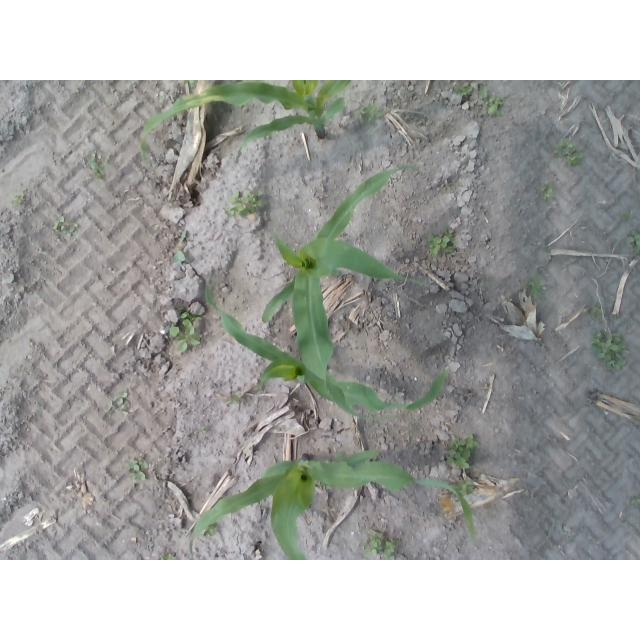Maize: (263, 165, 425, 419), (203, 276, 445, 413), (192, 449, 479, 560), (141, 81, 350, 159)
Weeds: (593, 330, 628, 370), (168, 312, 201, 353), (364, 532, 402, 560), (229, 191, 268, 215), (425, 231, 457, 256), (555, 140, 585, 165), (479, 89, 503, 115), (361, 103, 385, 122), (446, 449, 470, 468), (625, 228, 640, 249), (530, 276, 545, 297), (92, 156, 105, 177), (129, 463, 146, 479), (172, 249, 187, 267), (461, 435, 480, 449), (115, 392, 129, 410), (588, 303, 602, 320), (541, 184, 553, 202), (11, 196, 26, 209), (460, 481, 472, 495), (54, 218, 67, 230), (460, 86, 472, 95), (622, 211, 632, 221), (130, 457, 142, 463)
